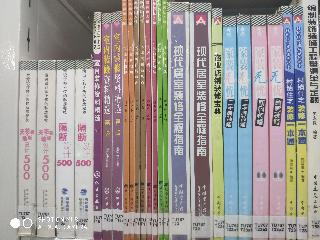book-spine: (190, 4, 212, 239), (169, 3, 190, 239), (302, 0, 320, 240), (266, 16, 285, 239), (251, 17, 268, 239), (282, 6, 296, 239), (19, 60, 37, 236), (294, 7, 307, 239), (57, 61, 74, 237), (238, 16, 251, 239), (224, 17, 237, 239), (77, 61, 93, 239), (38, 61, 54, 237), (213, 8, 224, 240), (112, 12, 122, 239), (121, 1, 129, 239), (103, 14, 111, 239), (94, 13, 101, 238), (134, 0, 140, 239), (157, 0, 163, 239), (128, 1, 134, 239), (145, 2, 151, 240), (163, 1, 169, 239), (140, 1, 145, 240), (152, 2, 157, 239)
